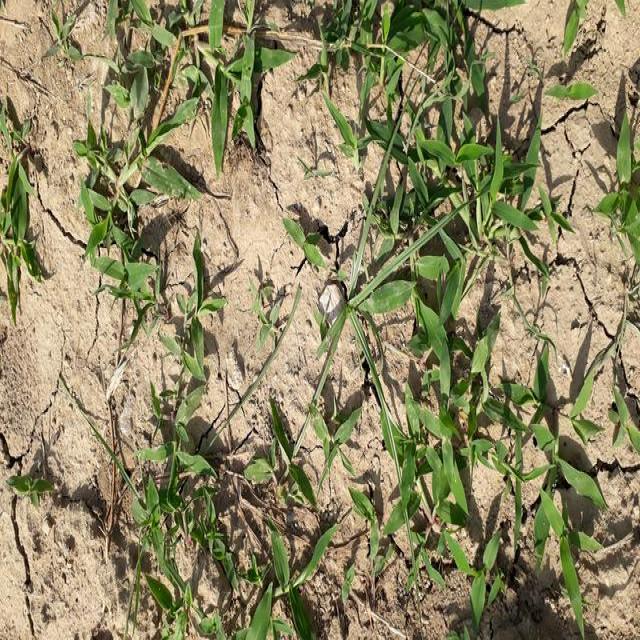weed: (370, 127, 530, 640), (302, 162, 470, 507), (152, 412, 378, 639), (125, 0, 529, 111), (542, 373, 626, 640), (80, 124, 203, 301), (8, 117, 50, 330), (617, 111, 640, 257)
